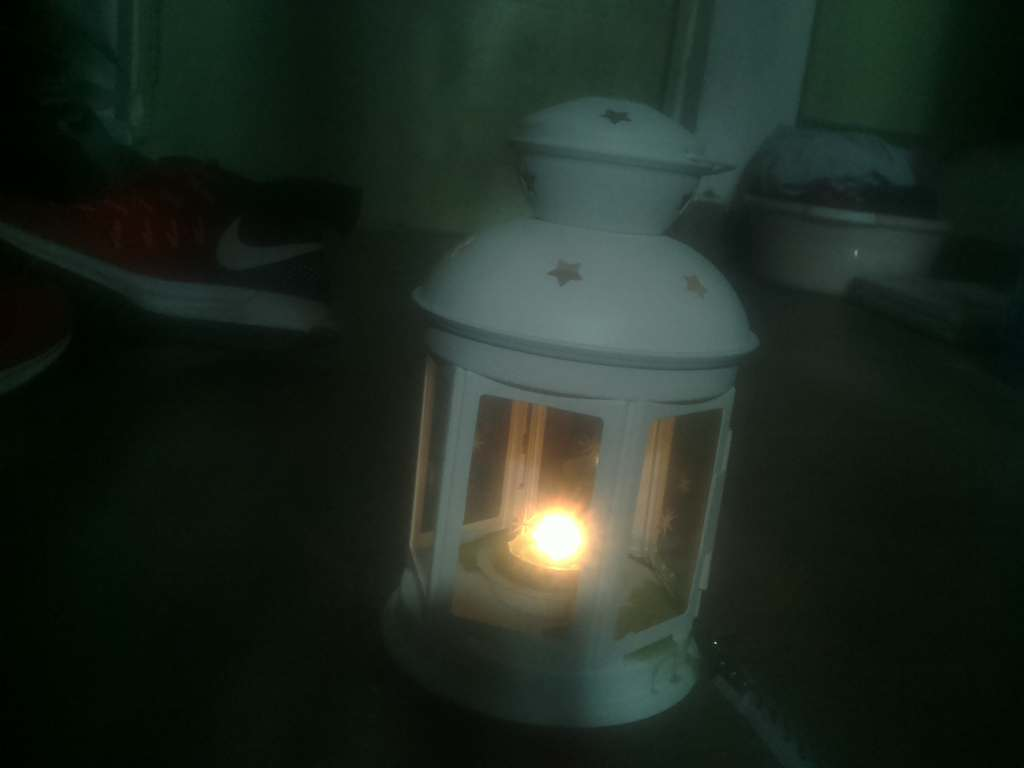fire: (502, 491, 646, 616)
